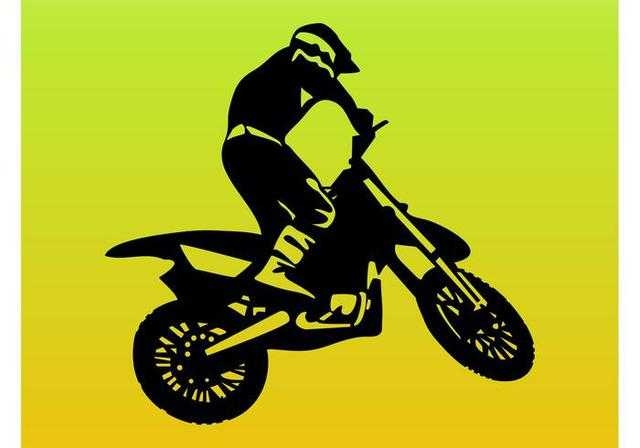motorcycle: (107, 122, 539, 419)
